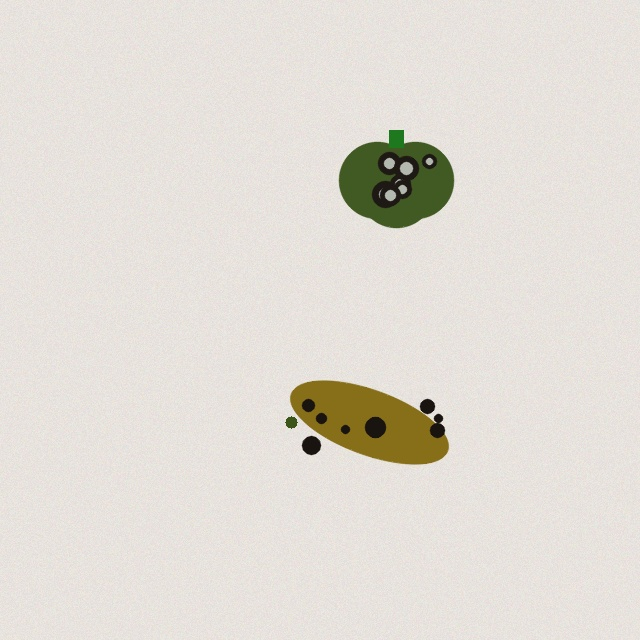Rotten banana: (282, 382, 456, 462)
Rotten bell pepper: (339, 130, 453, 227)
